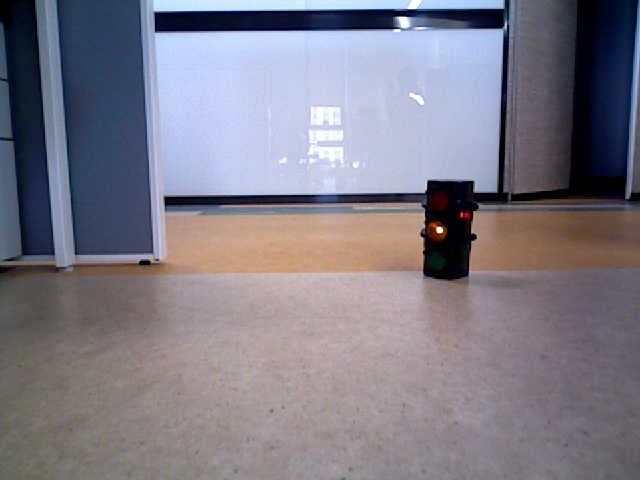yellow: (424, 182, 469, 277)
